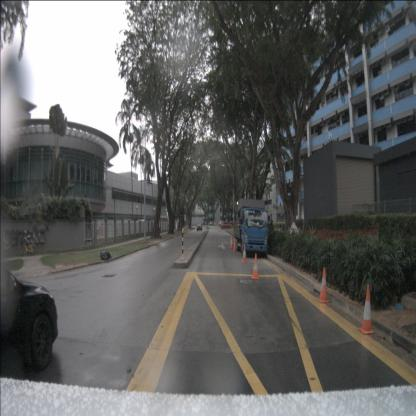movable_object-trafficcone: (358, 284, 375, 335), (317, 267, 330, 303), (252, 253, 260, 279), (242, 244, 247, 262), (233, 238, 237, 252), (230, 236, 234, 249)
vehicle-bicycle: (21, 232, 36, 257)
vehicle-car: (0, 262, 58, 382), (234, 198, 270, 260), (221, 221, 233, 230), (197, 224, 202, 232)
